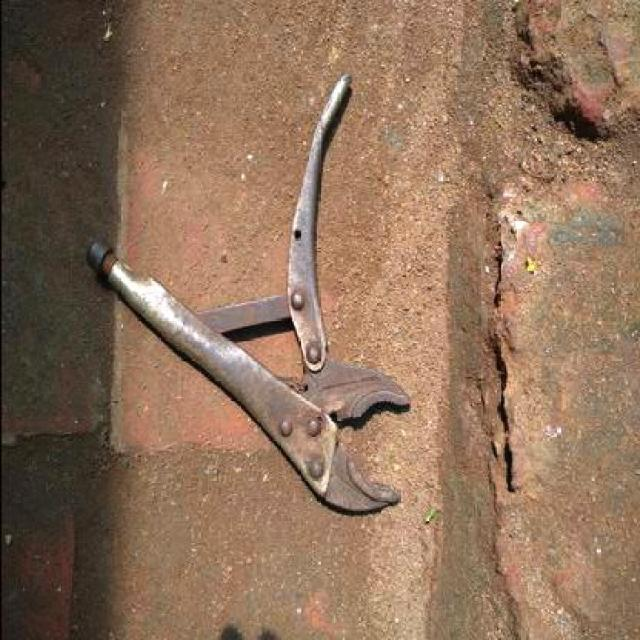pliers: (78, 71, 414, 517)
